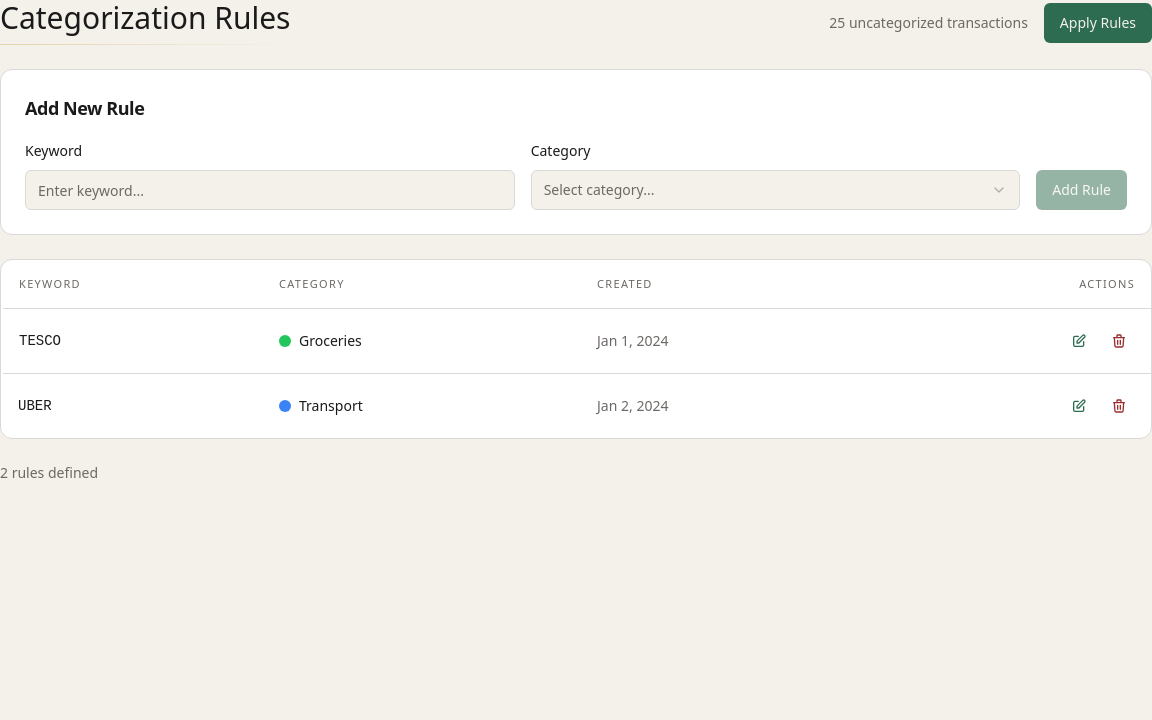
Test: RulesPage › cancels delete confirmation
Check: the text "TESCO" is shown, box [19,333,61,349]
Note: Click delete button
Click the button titled "Delete rule" in the row of "TESCO". click: (1119, 340)
box: [1103,324,1135,356]
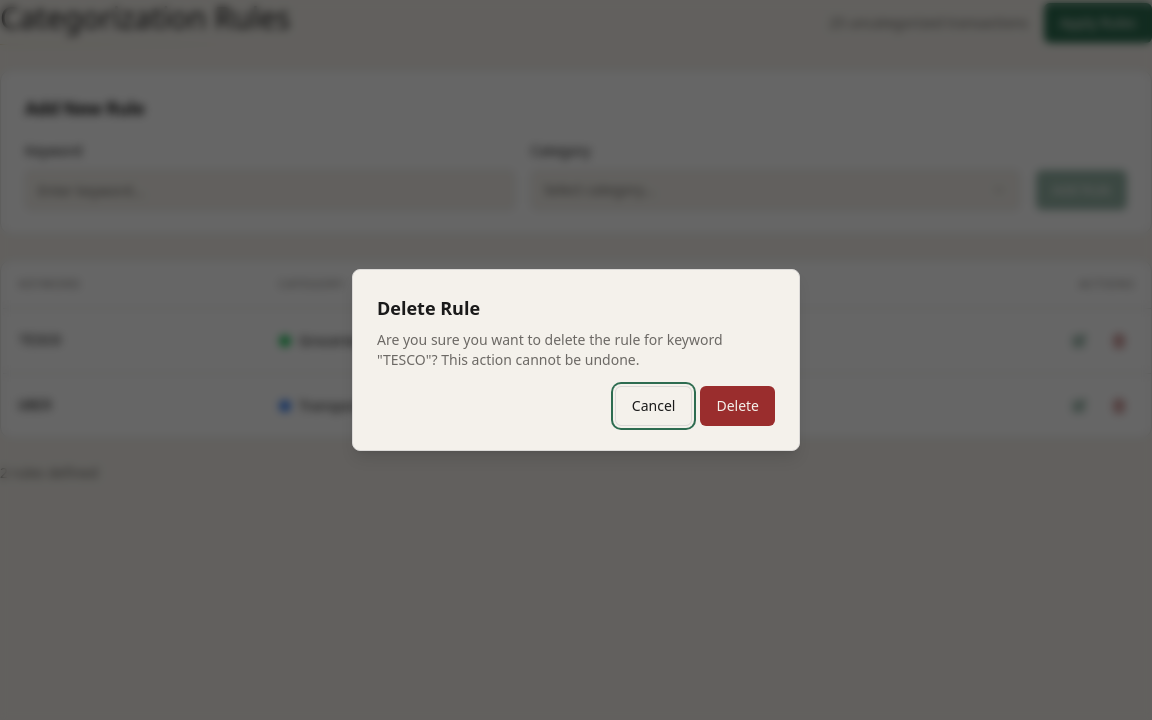
Check: the dialog is shown, box [352,269,800,451]
Click the button "Cancel". click: (654, 406)
box: [615,386,692,426]
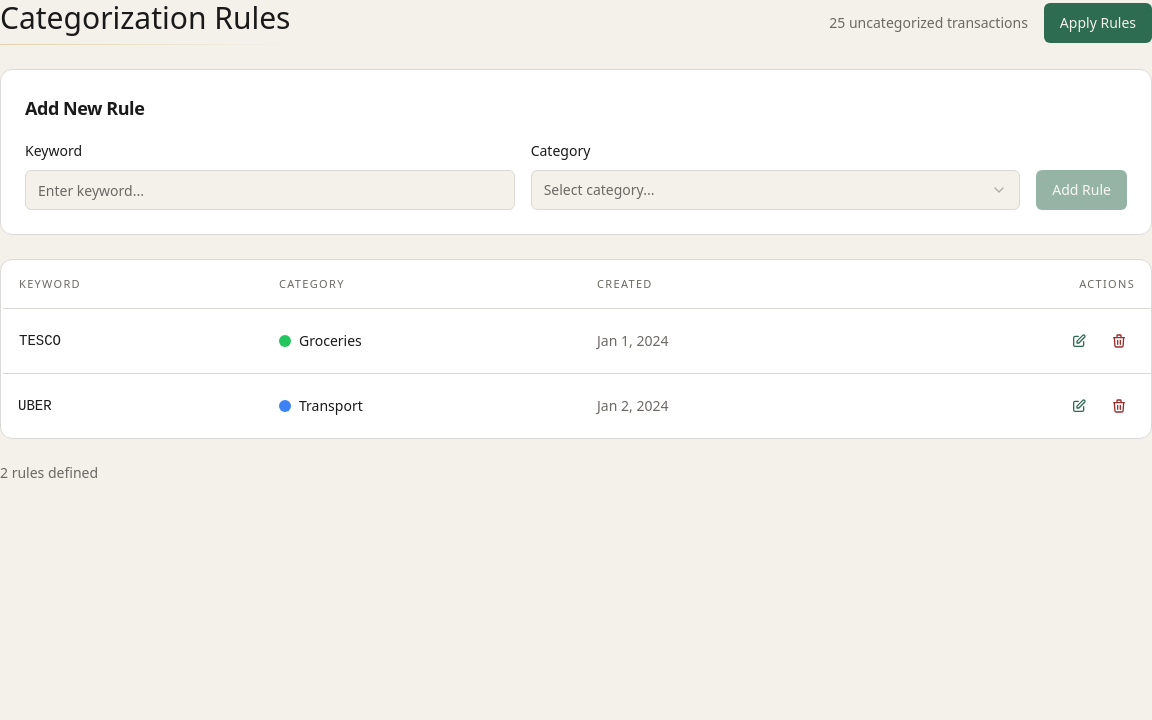
Check: the dialog is gone
